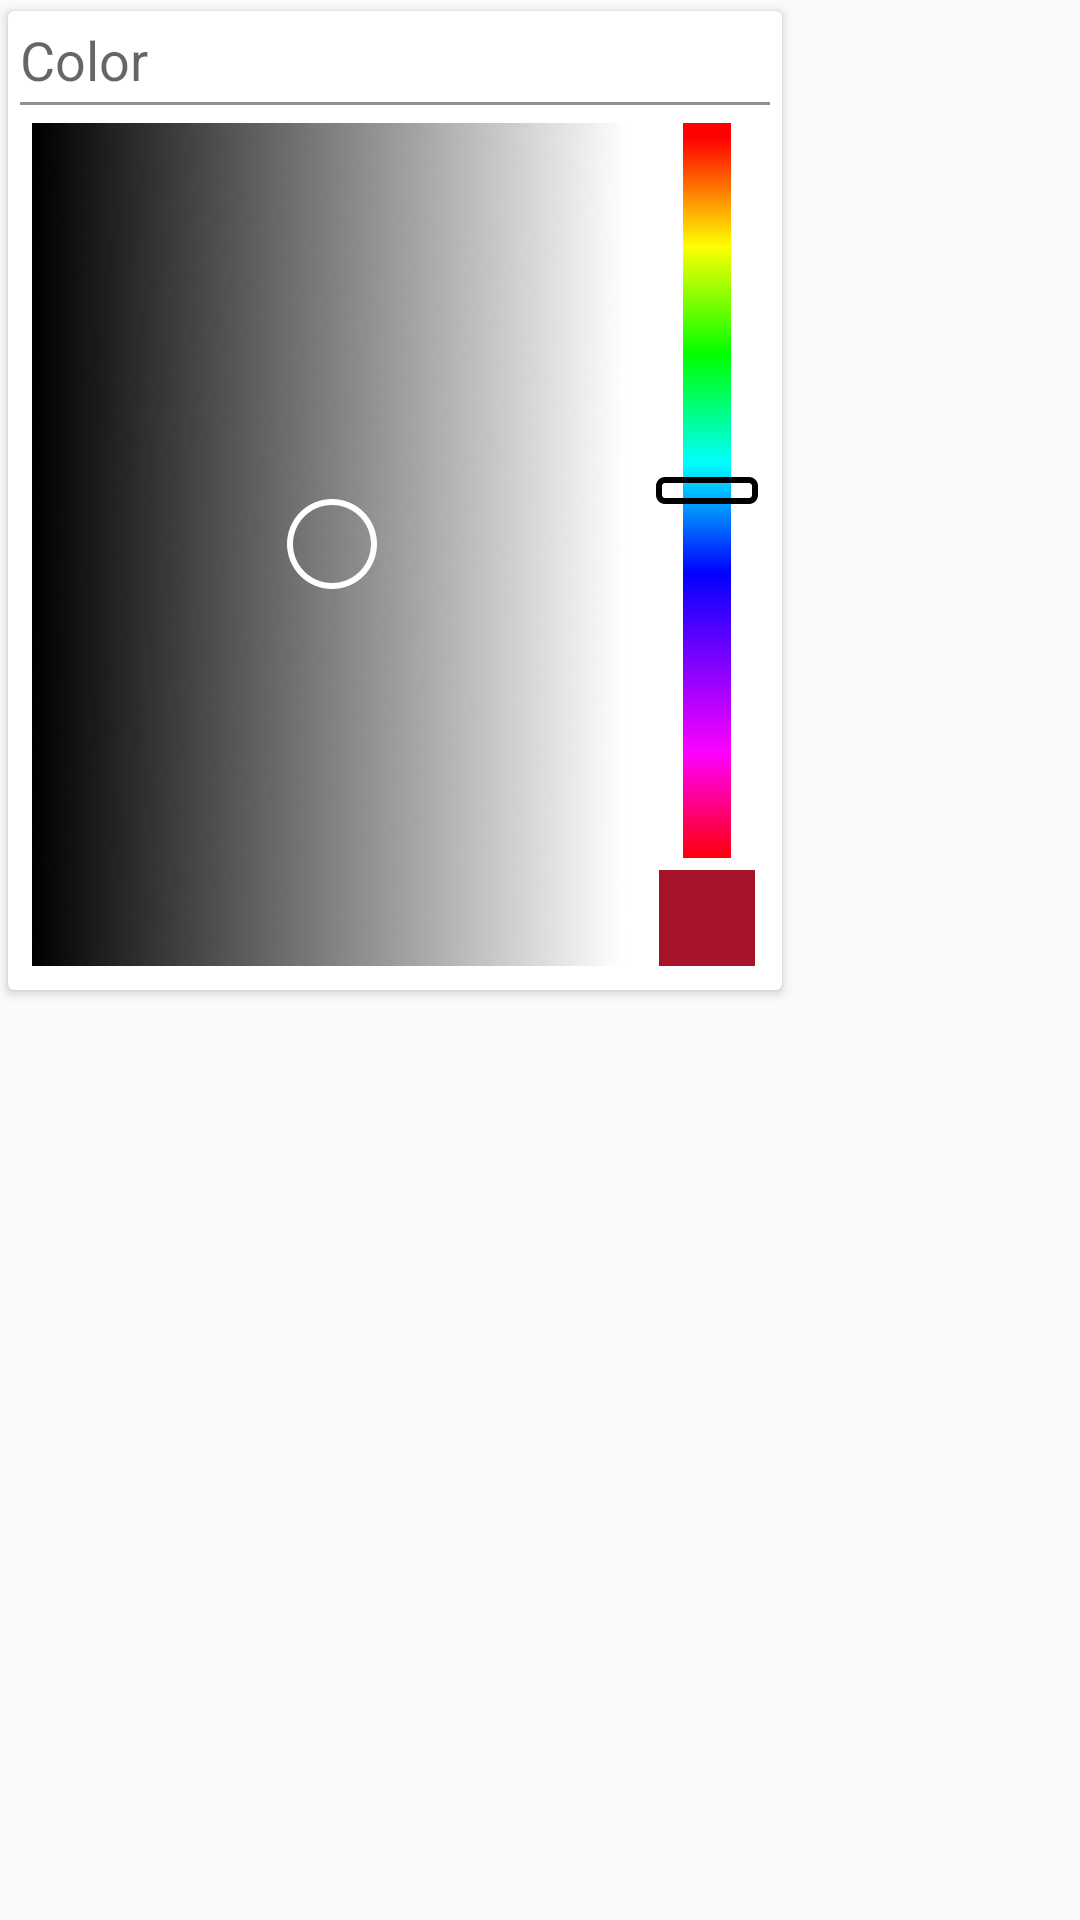

Named icons in this screenshot (1080w x 1920h) and their centers, (x,y):
hue indicator: (707,490)
luminosity indicator: (332,544)
